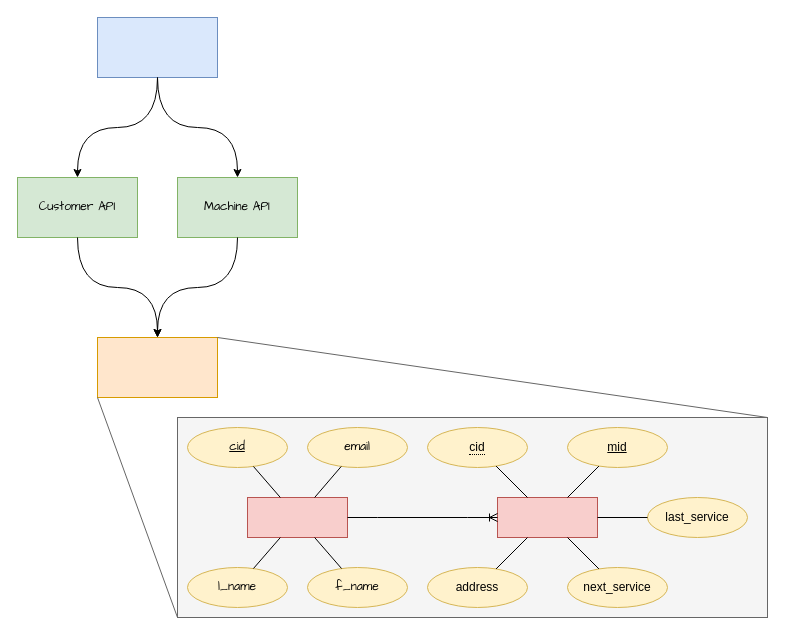
The diagram is 786 pixels wide and 636 high, and some of its shapes have lost their labels. The shapes that lost their labels are listed below. From the top down, each one's centre as x and y in pixels, then its label:
point (157, 47): Web-view
point (157, 367): Database
point (297, 517): customer
point (547, 517): machine
